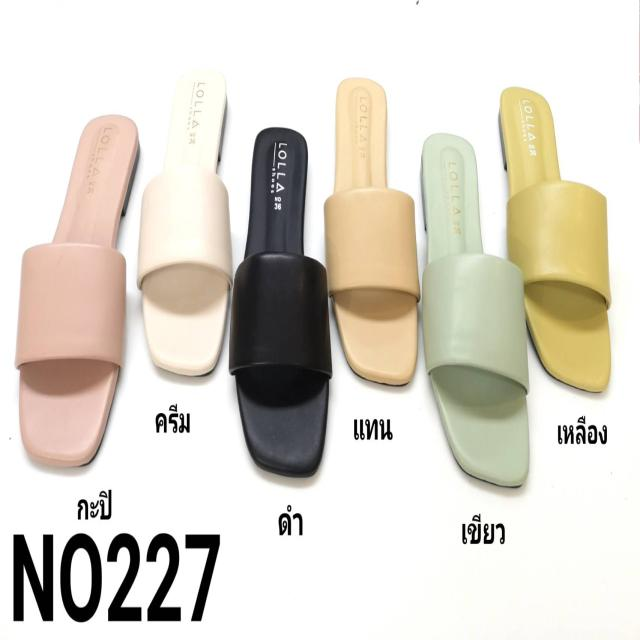black: (231, 130, 330, 478)
cream: (141, 65, 232, 382)
green: (422, 132, 528, 494)
kapi: (20, 114, 138, 471)
tan: (331, 71, 420, 387)
yellow: (501, 90, 612, 395)
